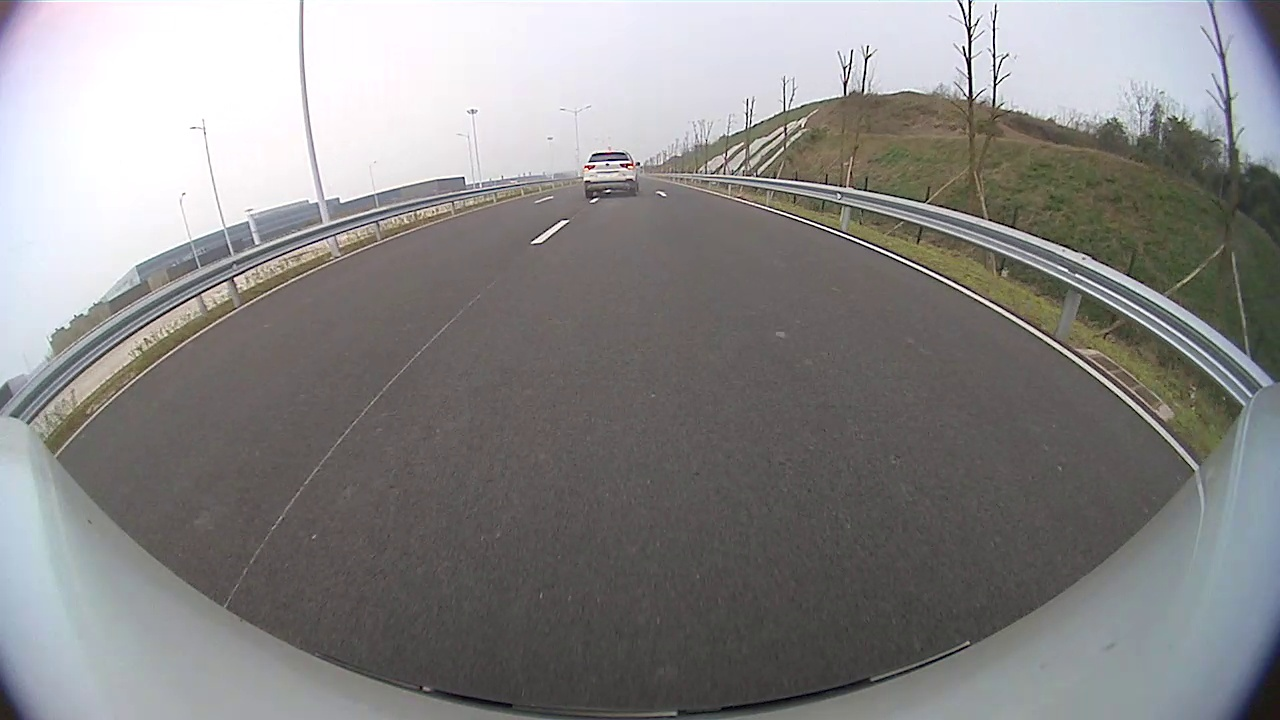car: (583, 147, 640, 202)
